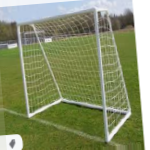goals: (14, 5, 133, 143)
